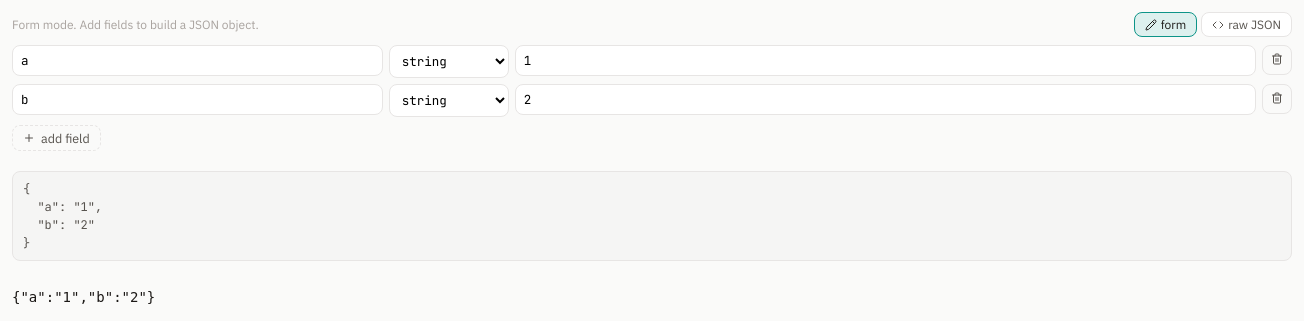
Test: DynamicInputBuilder › TestDeleteField: deleting a row removes it from the object
Check: the number of fields named "field key" is 2, box [12, 45, 383, 76]; [12, 84, 383, 115]
Delete the first row.
Click the button named "delete field": (1277, 60) [1262, 45, 1292, 75]
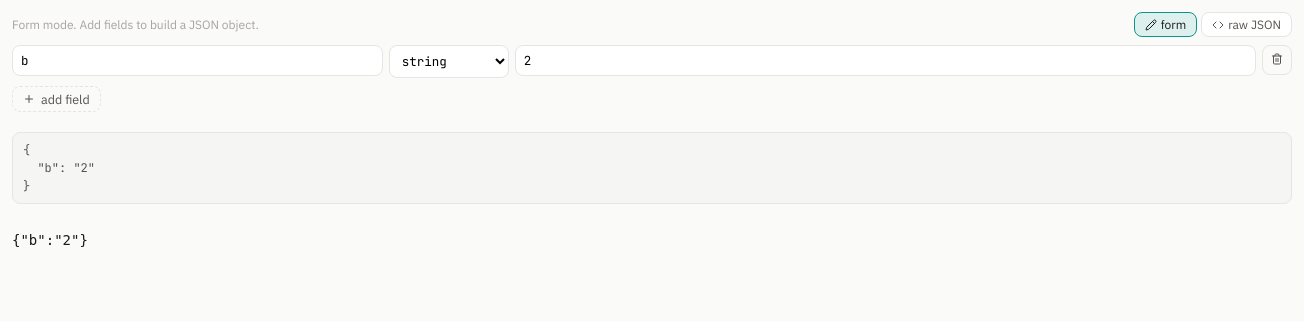
Check: the number of fields named "field key" is 1, box [12, 45, 383, 76]
